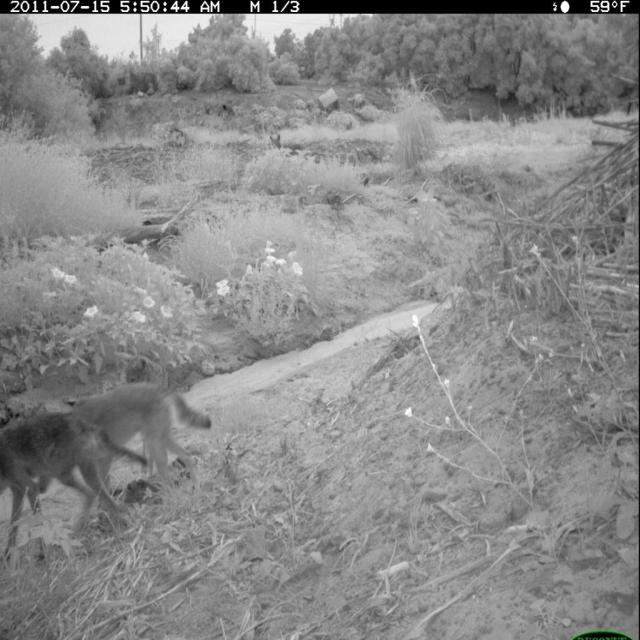coyote: (4, 398, 118, 552), (93, 378, 215, 515), (267, 131, 305, 160)
